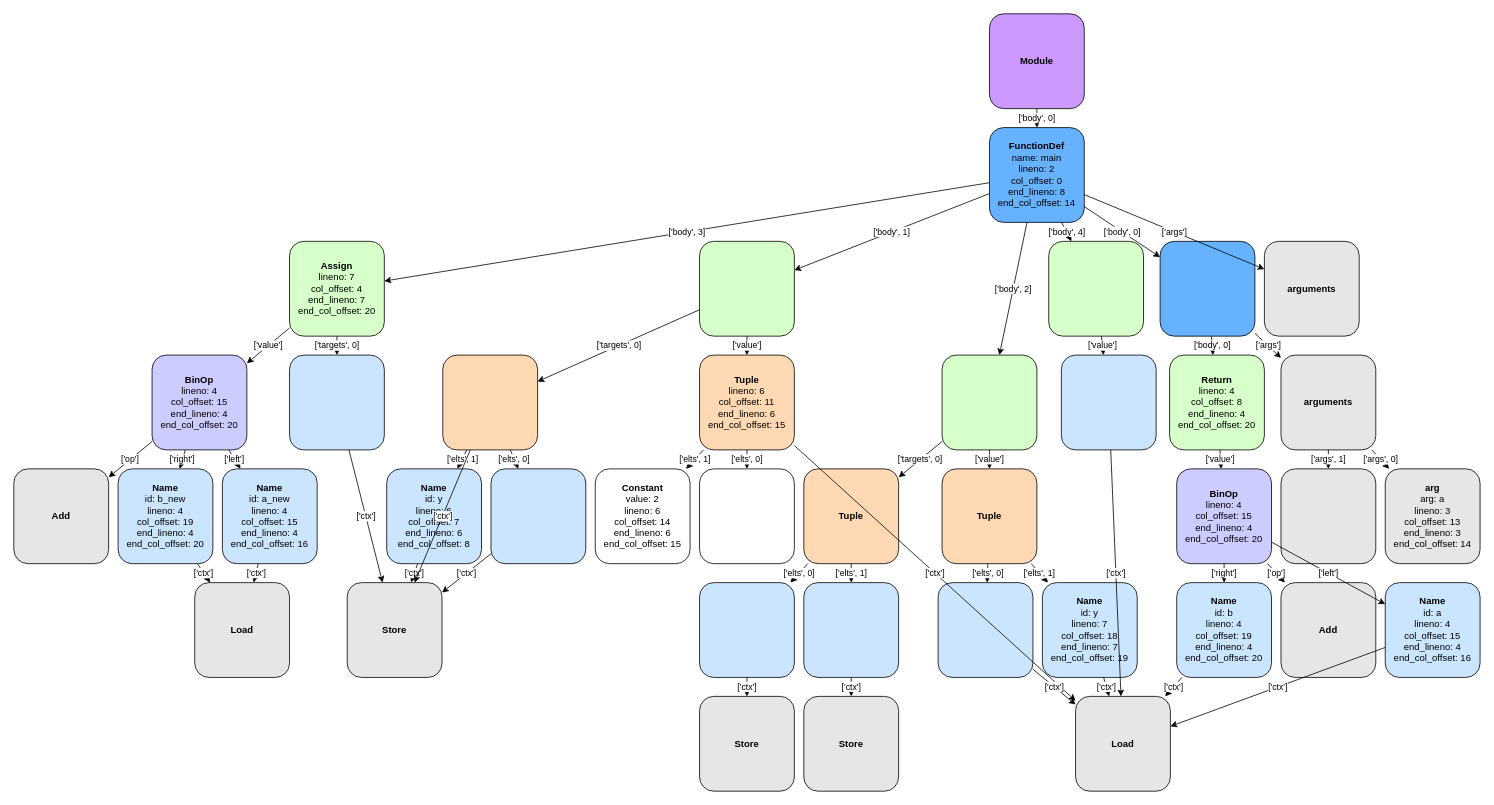
Image size: 1494x805. Some labels were removed from this diagram. Each missing label, with the centre of its shape:
arg arg: b lineno: 3 col_offset: 16 end_lineno: 3 end_col_offset: 17: the point at 1328,516
Assign: the point at 989,402
Assign lineno: 6 col_offset: 4 end_lineno: 6 end_col_offset: 15: the point at 746,288
Constant value: 1 lineno: 6 col_offset: 11 end_lineno: 6 end_col_offset: 12: the point at 746,516
FunctionDef name: plus lineno: 3 col_offset: 4 end_lineno: 4 end_col_offset: 20: the point at 1207,288
Name id: a_new: the point at 746,629
Name id: b_new: the point at 851,629
Name id: res lineno: 7 col_offset: 4 end_lineno: 7 end_col_offset: 7: the point at 336,402
Name id: res lineno: 8 col_offset: 11 end_lineno: 8 end_col_offset: 14: the point at 1108,402
Name id: x lineno: 6 col_offset: 4 end_lineno: 6 end_col_offset: 5: the point at 538,516
Name id: x lineno: 7 col_offset: 15 end_lineno: 7 end_col_offset: 16: the point at 985,629
Return lineno: 8 col_offset: 4 end_lineno: 8 end_col_offset: 14: the point at 1096,288
Tuple lineno: 6 col_offset: 4 end_lineno: 6 end_col_offset: 8: the point at 490,402
